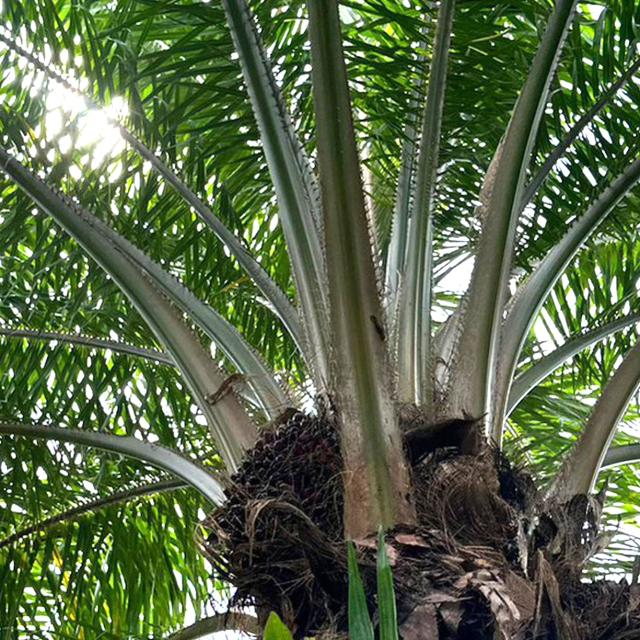almost: (204, 402, 346, 568)
